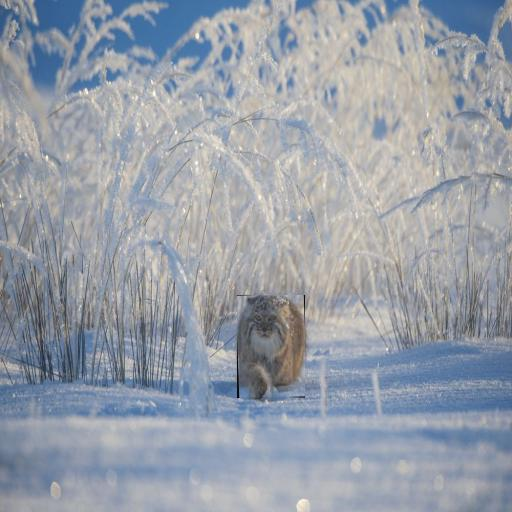manul: (238, 296, 305, 397)
